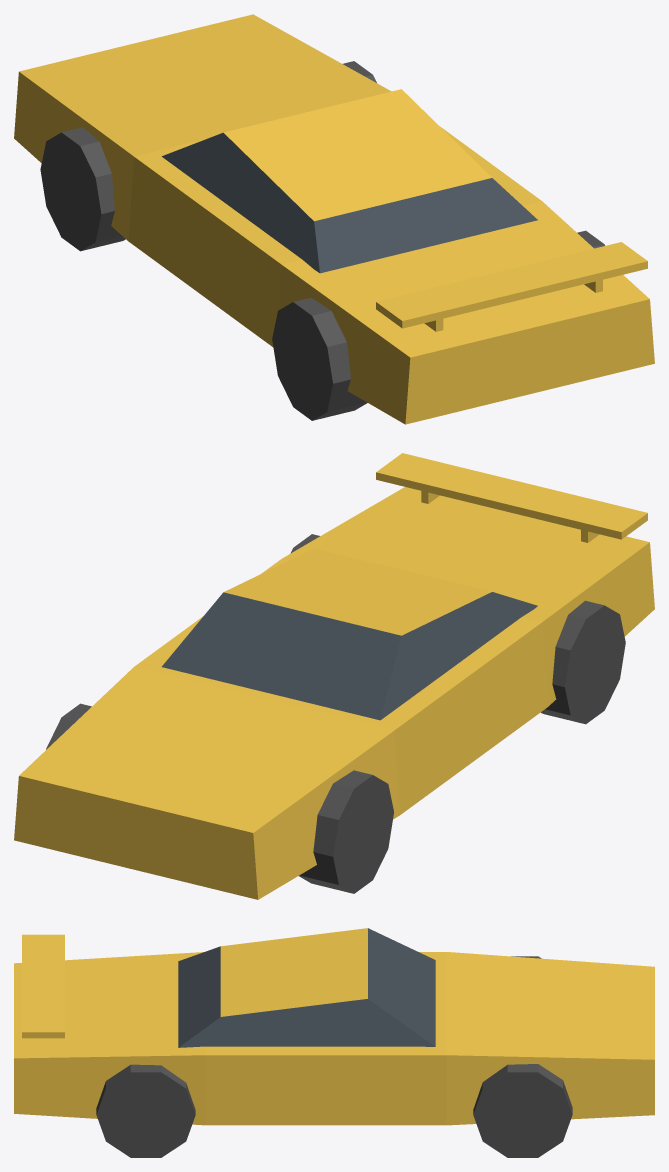
The model's file is camara.glb.
3 views of the same model, one above another, from view 1: azimuth 30°, elevation 25°; view 2: azimuth 150°, elevation 25°; view 3: azimuth 270°, elevation 25° (orthographic). The views are drawn at different scales.
Parts seen in each view (by area): view 1: chevy_camaro_body, chevy_camaro_Wheel_RL, chevy_camaro_Wheel_FL; view 2: chevy_camaro_body, chevy_camaro_Wheel_FL, chevy_camaro_Wheel_RL; view 3: chevy_camaro_body, chevy_camaro_Wheel_FR, chevy_camaro_Wheel_RR.
Boxes of the visible parts, x1,y1,x2,y2 form: chevy_camaro_body: [14, 14, 654, 424]; chevy_camaro_Wheel_RL: [272, 297, 367, 420]; chevy_camaro_Wheel_FL: [40, 127, 125, 251]; chevy_camaro_body: [14, 453, 654, 899]; chevy_camaro_Wheel_FL: [299, 770, 393, 893]; chevy_camaro_Wheel_RL: [541, 600, 625, 724]; chevy_camaro_body: [14, 928, 654, 1125]; chevy_camaro_Wheel_FR: [473, 1064, 572, 1157]; chevy_camaro_Wheel_RR: [96, 1064, 195, 1157].
Bounding box in the file's own units: 2.05 × 1.12 × 4.78.
